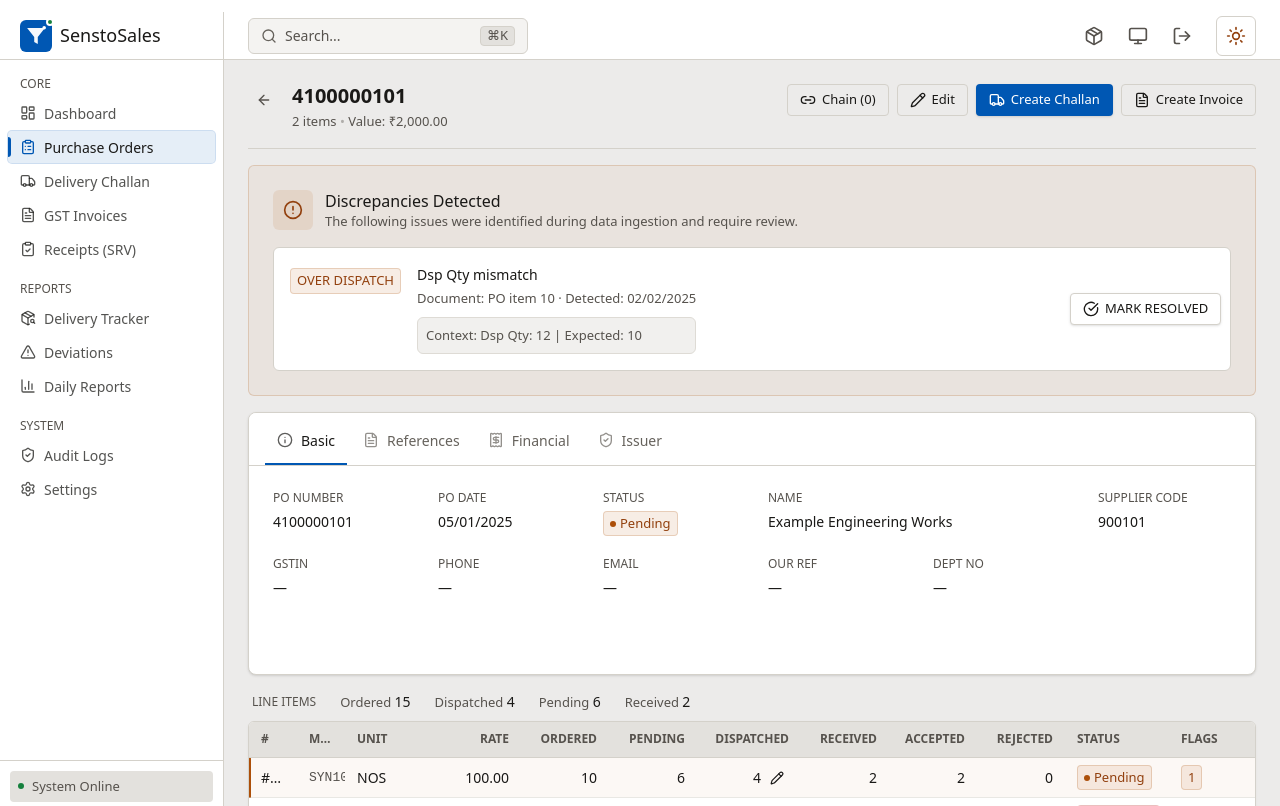
Scenario: /po/:id (SPEC-16 PR 2) › resolves a flag in place, though the refetched page no longer lists it (INV-59, C8)
The image size is (1280, 806).
Expected: the text "Dsp Qty mismatch" is shown, [417,265,538,284]
Expected: the text "Document: PO item 10 · Detected: 02/02/2025" is shown, [417,289,696,308]
Click the button "MARK RESOLVED": coordinates (1146, 309) [1070,293,1221,325]
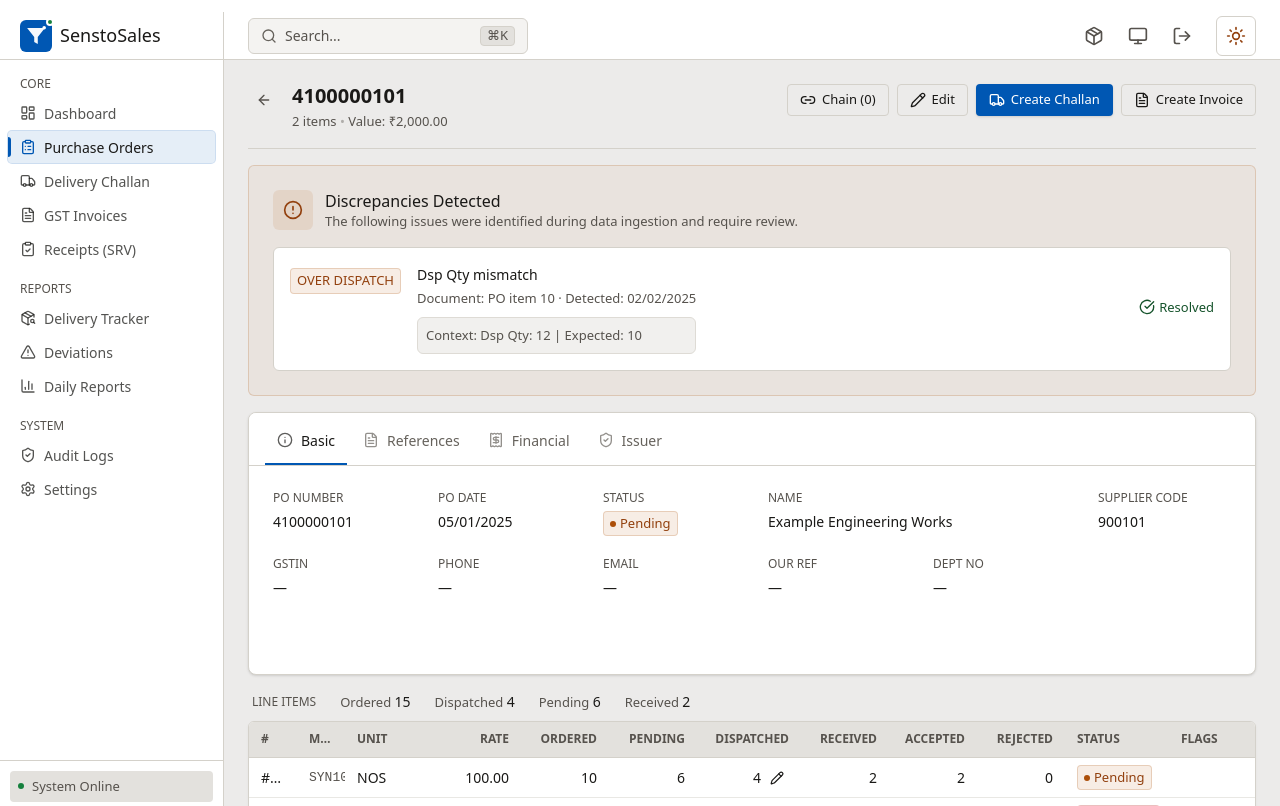
Expected: the element "Discrepancies" is shown, [248,164,1256,396]
Expected: the text "Resolved" is shown, [1139,298,1214,317]
